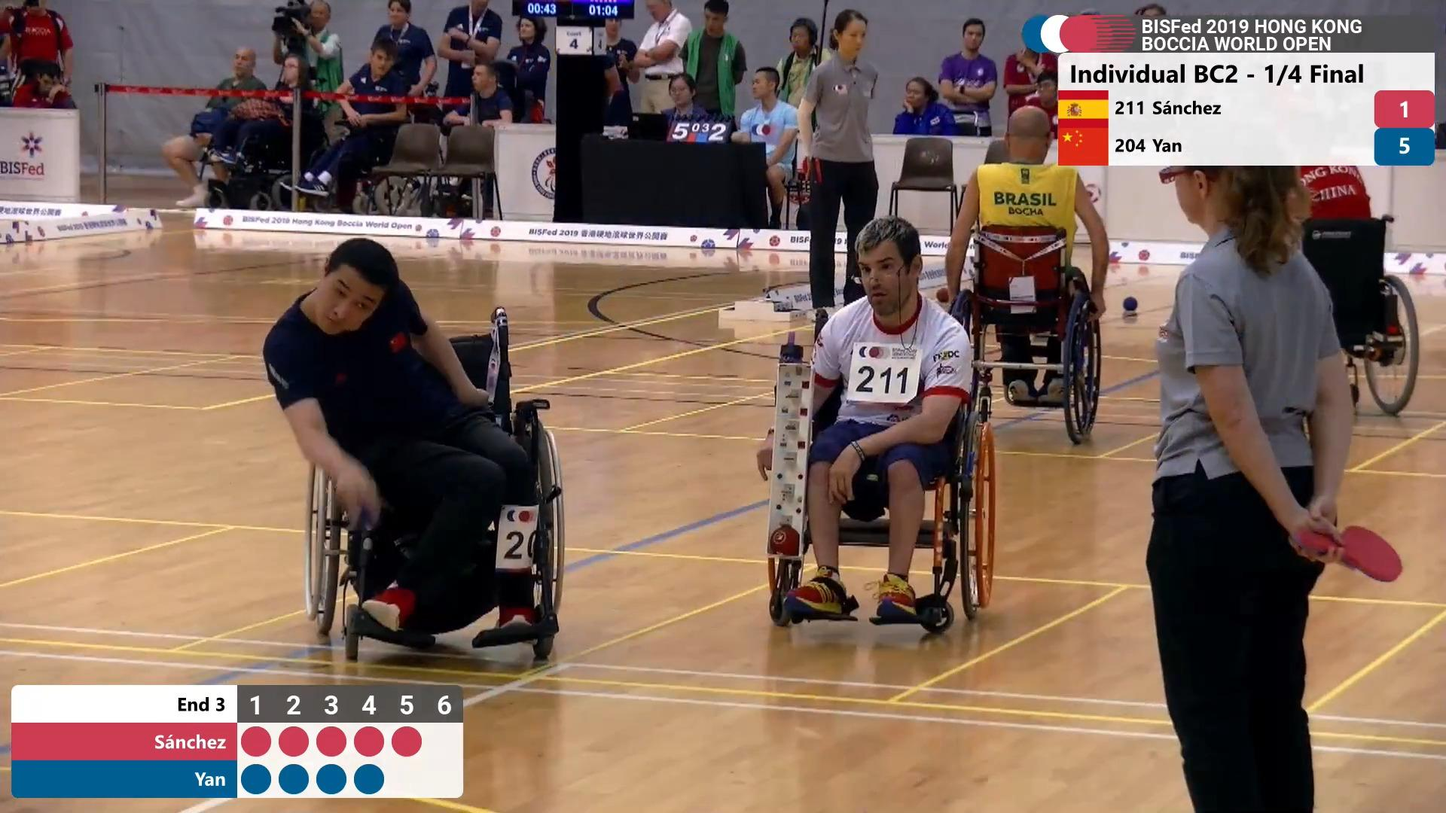blue_ball: (1122, 297, 1140, 312)
red_ball: (936, 287, 951, 303)
